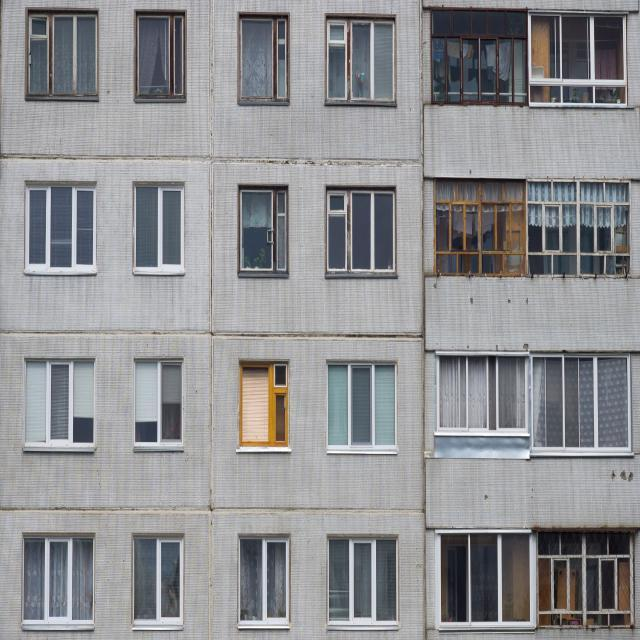Window: (532, 182, 628, 276), (538, 534, 632, 628), (536, 358, 630, 449), (438, 184, 524, 276), (433, 16, 527, 100), (534, 19, 624, 102), (442, 536, 528, 620), (19, 360, 96, 448), (439, 360, 526, 430), (328, 538, 398, 624), (24, 541, 92, 623), (28, 16, 98, 94), (330, 21, 394, 103), (26, 194, 94, 271), (328, 192, 394, 270), (331, 368, 396, 444), (135, 185, 183, 269), (134, 542, 182, 622), (136, 364, 182, 446), (136, 19, 184, 96), (242, 368, 288, 446), (240, 195, 285, 269), (242, 544, 288, 616), (241, 27, 285, 102)
